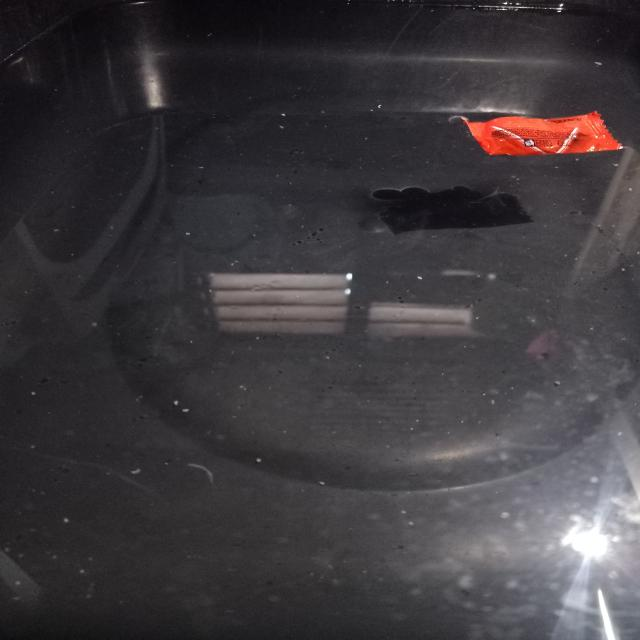Plastic Wrapper: (460, 112, 623, 155)
